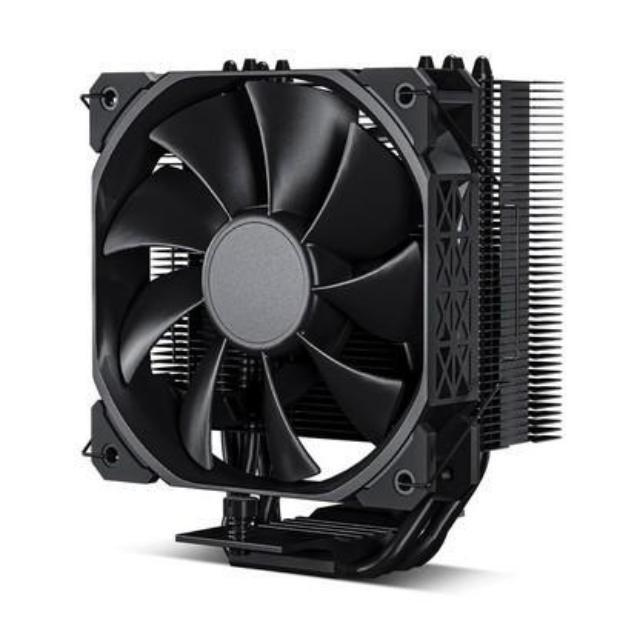CPU_Fan: (80, 66, 566, 568)
